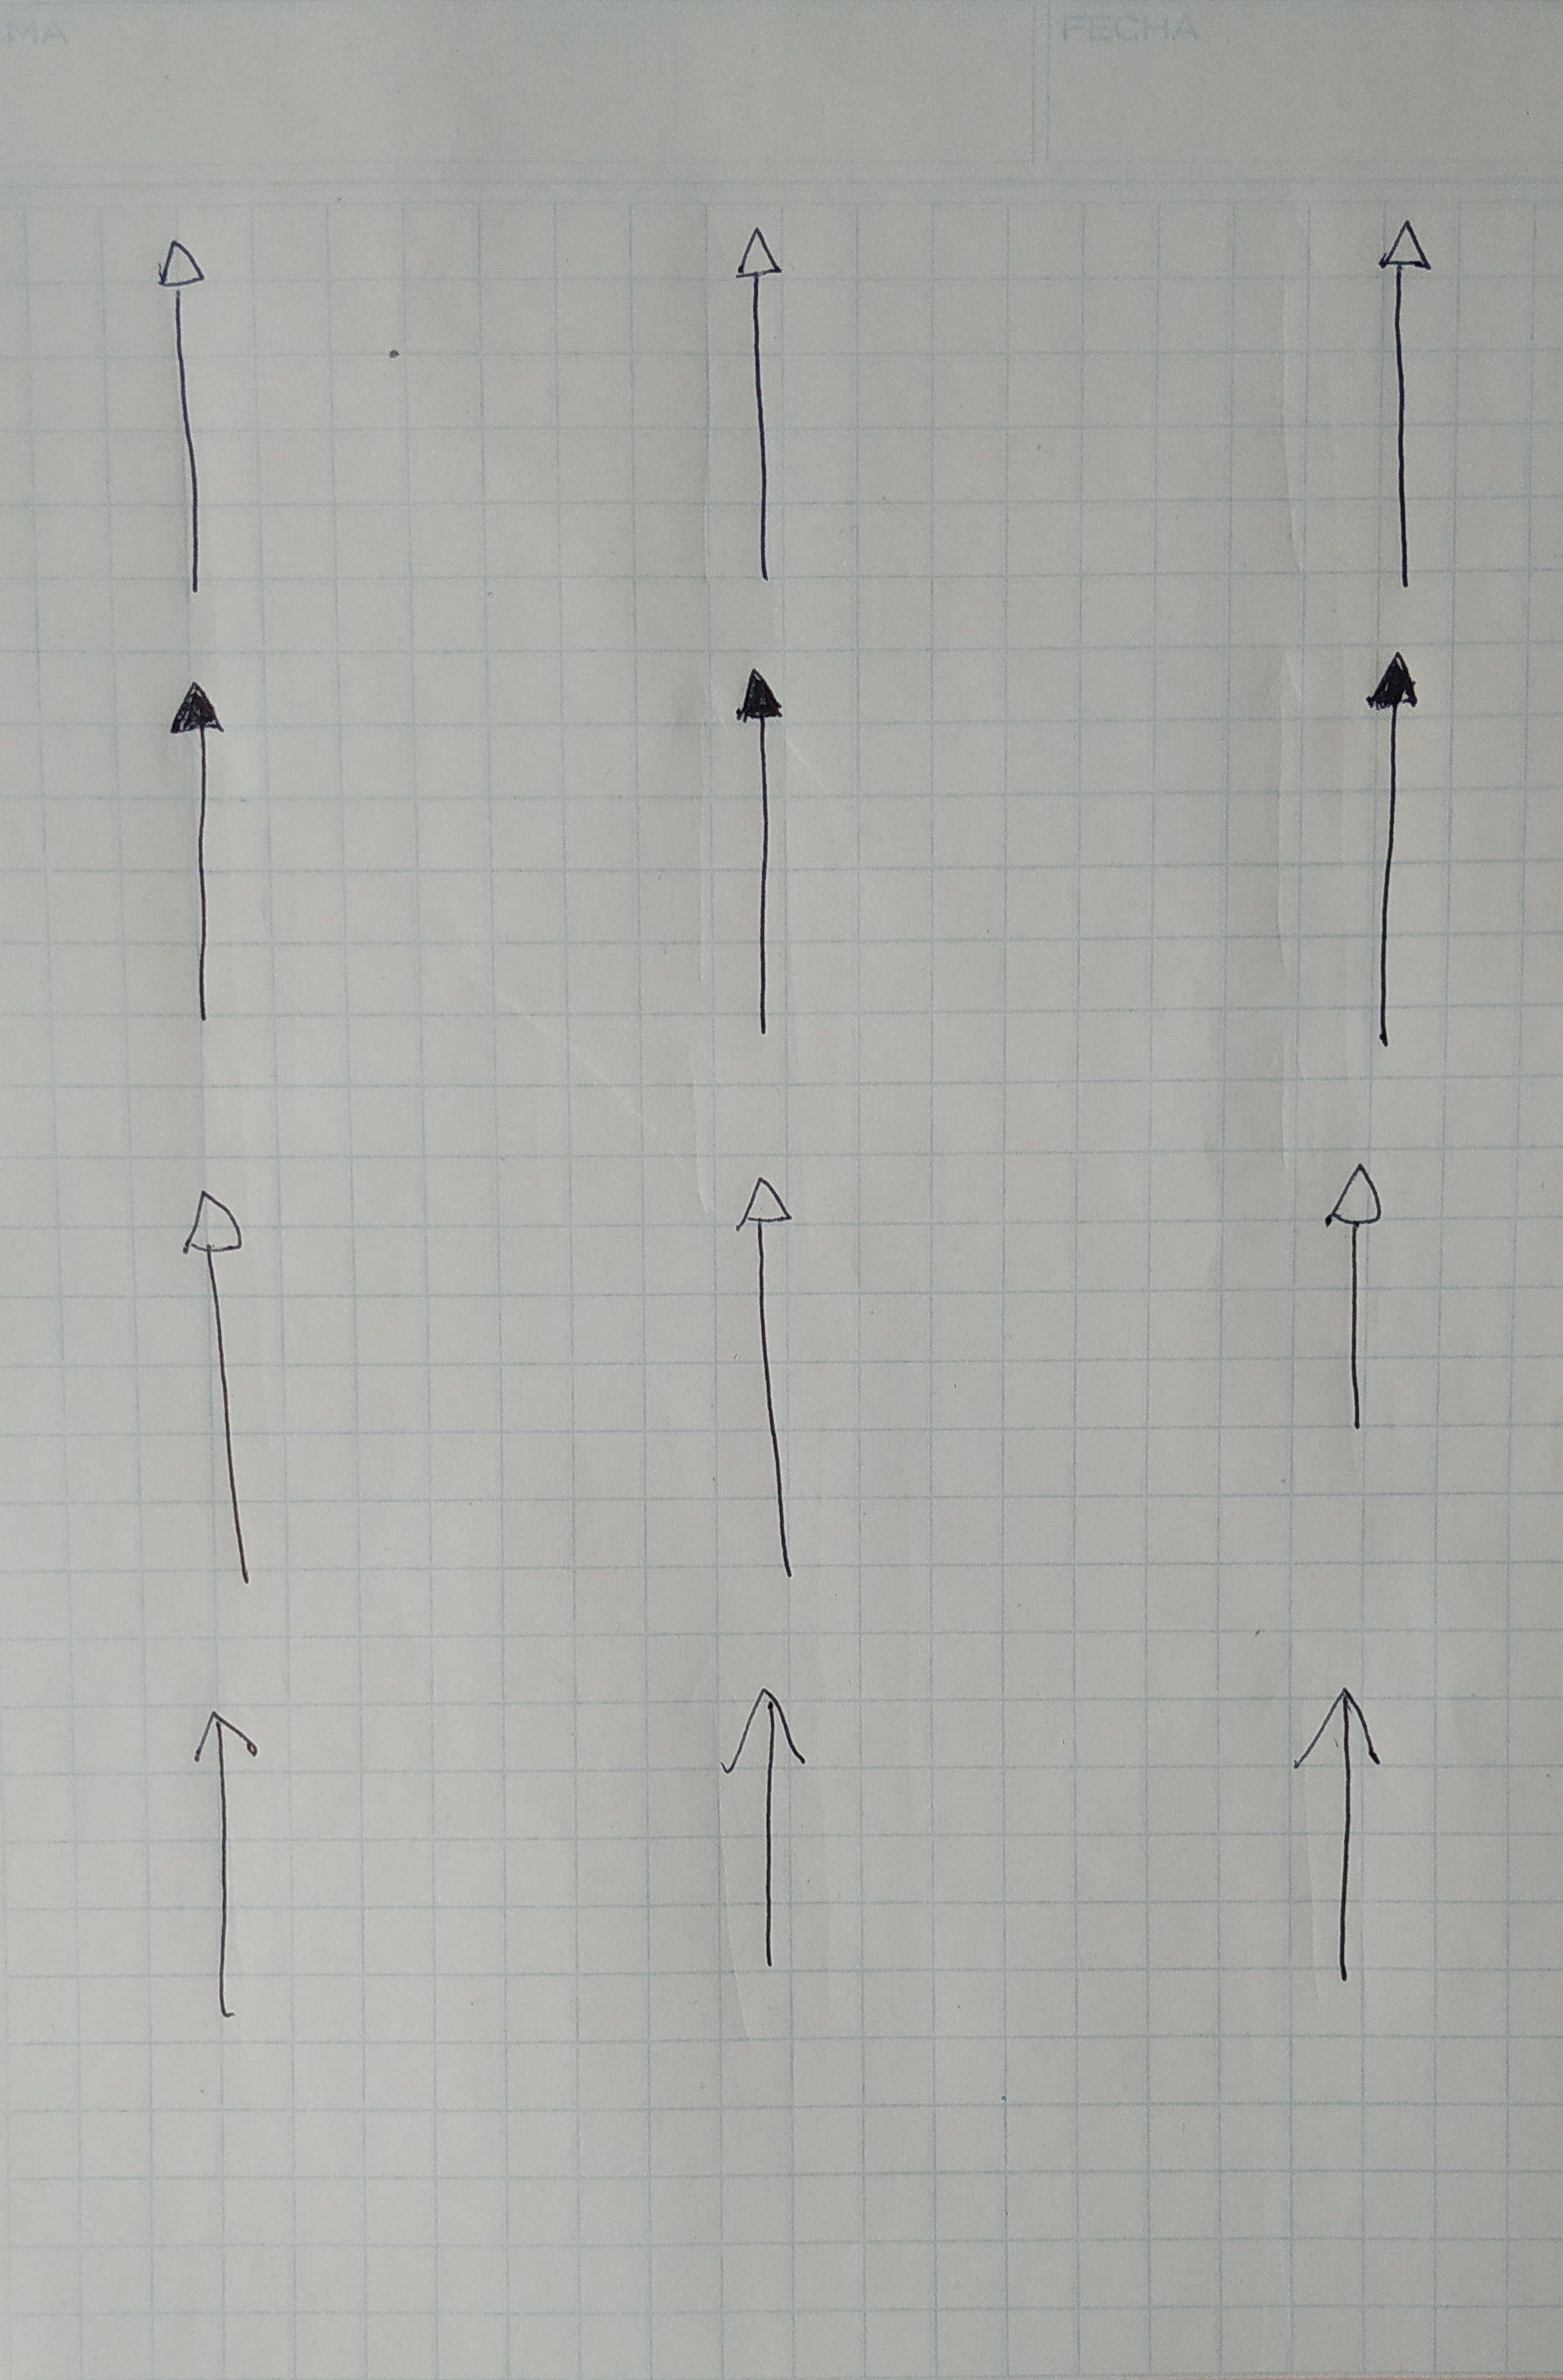arrow_line_up: (174, 1188, 274, 1591), (733, 1176, 806, 1586), (1293, 1686, 1383, 1986), (155, 232, 227, 597), (188, 1708, 263, 2024), (722, 1689, 806, 1966), (1375, 216, 1434, 598), (166, 677, 229, 1031), (1362, 646, 1416, 1052), (729, 223, 788, 586), (729, 663, 783, 1047), (1322, 1157, 1389, 1434)
